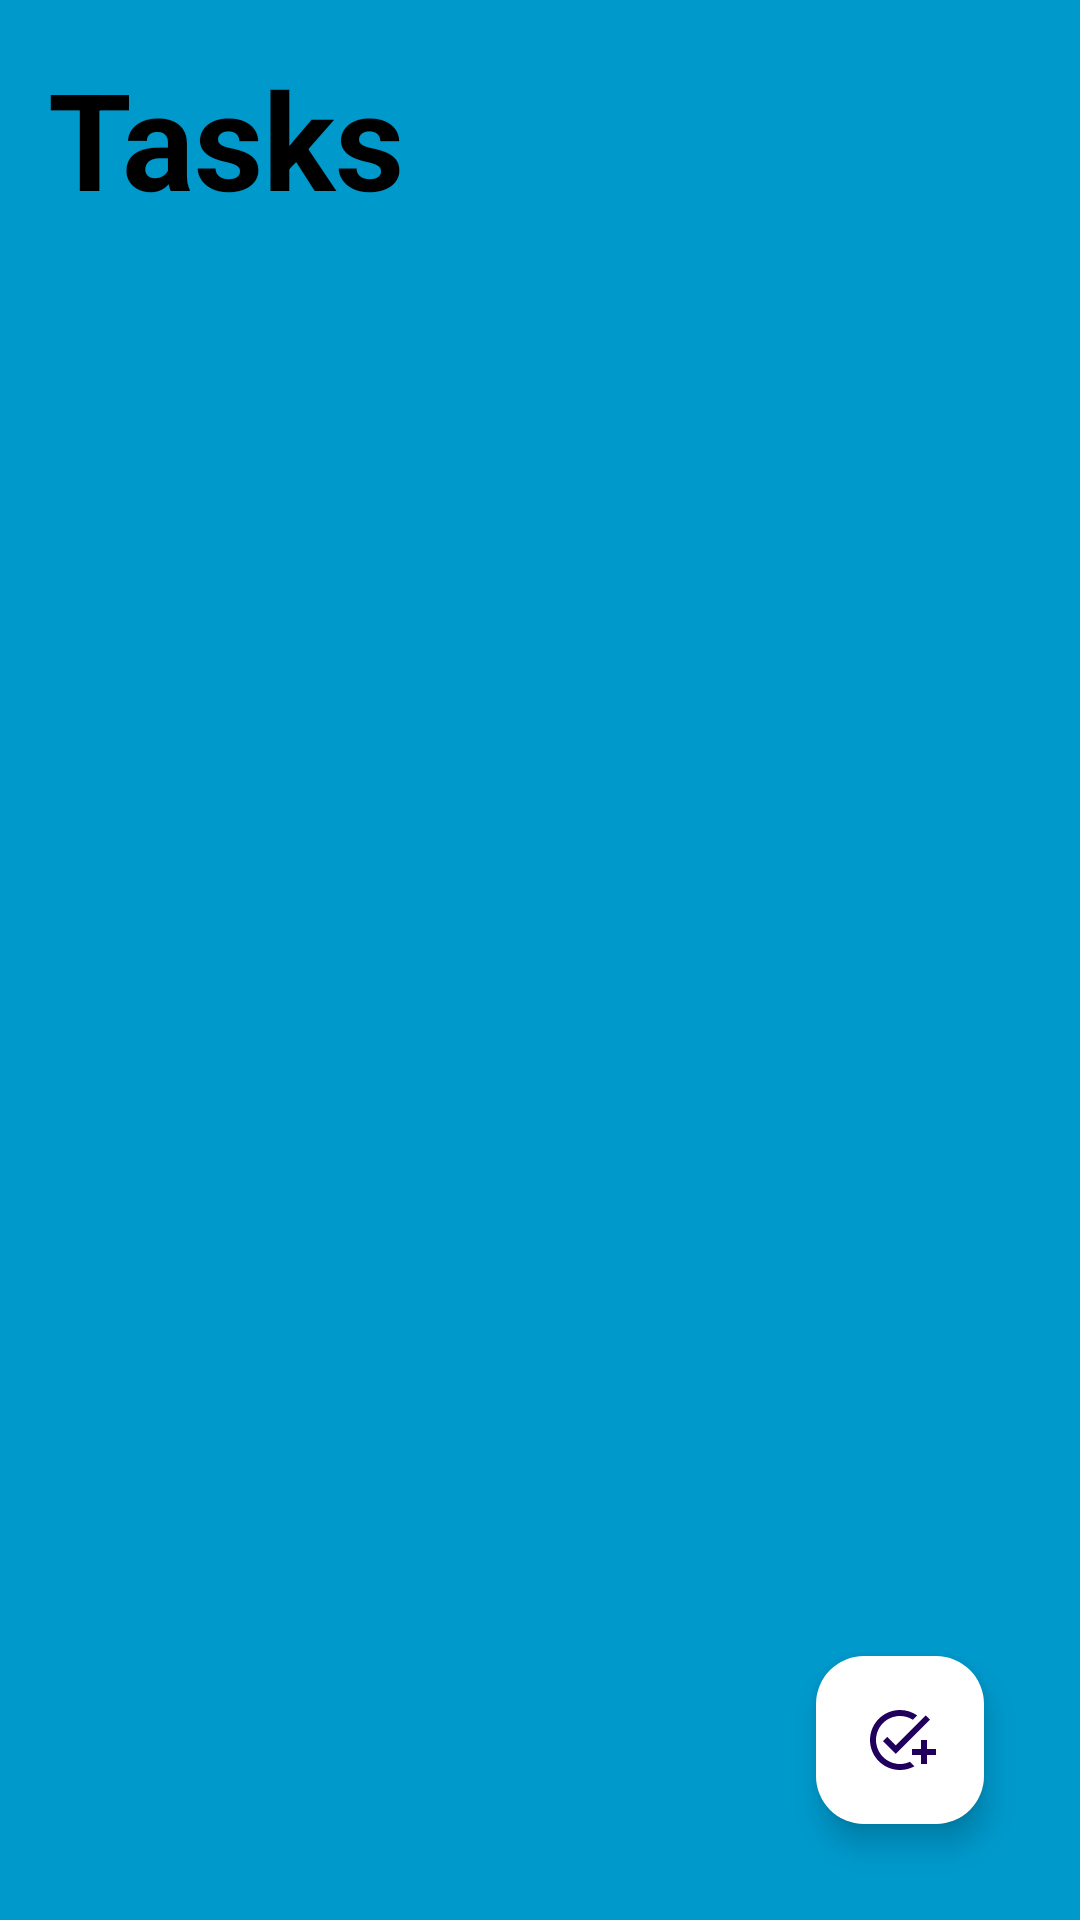

Screen size 1080*1920. Icon name, then its center in pixels as point (x, y):
Add Task: point (900, 1740)
